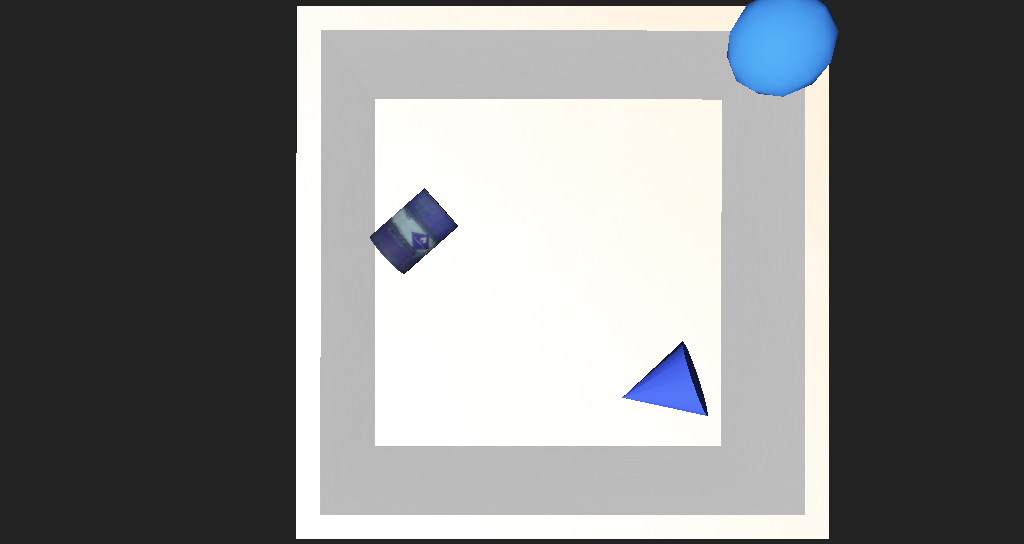cone: (347, 217, 435, 270)
cylinder: (546, 308, 653, 379)
sphere: (640, 107, 721, 169)
